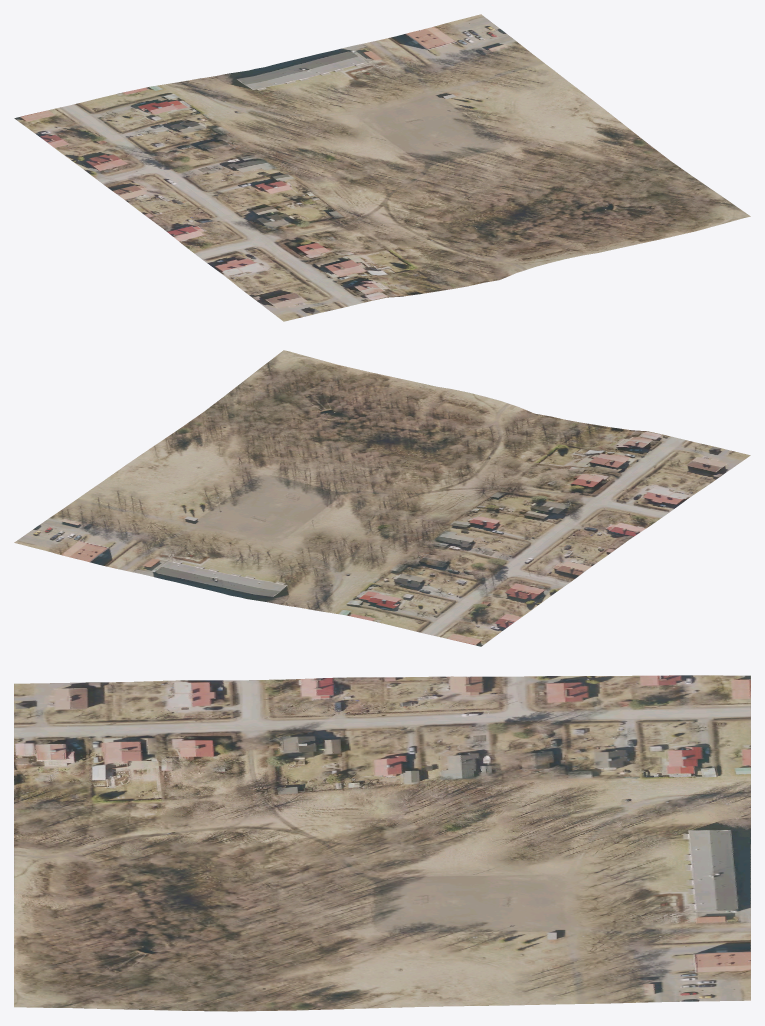
The model's file is CM_Terrain_24489434_6818770.fbx.
3 renders of one model, top to bottom at view 1: azimuth 30°, elevation 25°; view 2: azimuth 150°, elevation 25°; view 3: azimuth 270°, elevation 25°, orthographic. The views are drawn at different scales.
Visible parts, largest first — view 1: CM_Terrain_24489434_6818770_LOD0; view 2: CM_Terrain_24489434_6818770_LOD0; view 3: CM_Terrain_24489434_6818770_LOD0.
Boxes of the visible parts, x1=… form: CM_Terrain_24489434_6818770_LOD0: x1=14, y1=14, x2=750, y2=321; CM_Terrain_24489434_6818770_LOD0: x1=14, y1=350, x2=750, y2=646; CM_Terrain_24489434_6818770_LOD0: x1=14, y1=675, x2=750, y2=1011.
Size of what is drawn, in the model's own units: 205 by 7.92 by 205.
